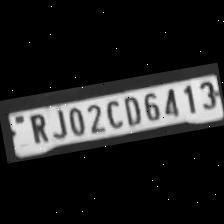0: (63, 102, 86, 135)
1: (174, 80, 198, 114)
2: (81, 100, 106, 134)
3: (193, 76, 219, 111)
4: (156, 84, 182, 118)
6: (137, 88, 161, 122)
C: (102, 95, 124, 129)
D: (118, 92, 142, 125)
J: (46, 104, 68, 139)
R: (23, 109, 50, 145)
